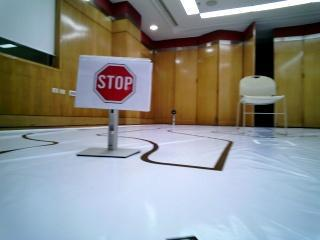stop: (84, 58, 158, 114)
